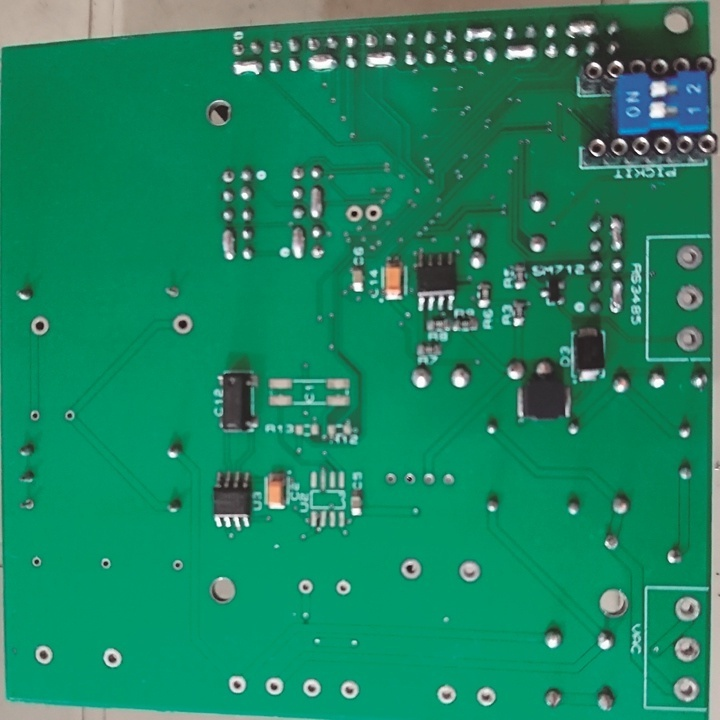F: (670, 282, 705, 313), (672, 593, 702, 628), (673, 323, 705, 355), (671, 239, 704, 270), (670, 675, 702, 706), (673, 632, 700, 666), (454, 557, 484, 586), (398, 555, 425, 582), (98, 646, 124, 671), (474, 683, 498, 709), (264, 673, 288, 698), (170, 312, 195, 335), (300, 677, 324, 700), (32, 643, 54, 667), (28, 315, 50, 338), (435, 682, 459, 703), (227, 673, 248, 696), (338, 680, 361, 700), (544, 38, 561, 62), (161, 280, 181, 300), (334, 578, 354, 598), (345, 203, 364, 223), (363, 201, 381, 222), (17, 496, 39, 513), (289, 162, 306, 183), (361, 29, 379, 48), (439, 469, 456, 489), (230, 39, 247, 58), (305, 35, 322, 54), (463, 45, 478, 66), (419, 470, 437, 487), (310, 243, 326, 262), (220, 168, 239, 184), (298, 579, 314, 597), (266, 37, 282, 55), (383, 472, 401, 488), (404, 469, 418, 488), (62, 407, 76, 424), (170, 558, 184, 575), (28, 406, 41, 423), (30, 554, 44, 569), (98, 556, 110, 569)
P: (231, 57, 264, 80), (364, 49, 398, 71), (306, 52, 337, 75), (565, 18, 597, 40), (461, 23, 496, 43), (609, 276, 625, 318), (307, 185, 326, 220), (610, 212, 626, 253), (219, 227, 237, 262), (501, 42, 536, 58), (290, 224, 304, 260)
